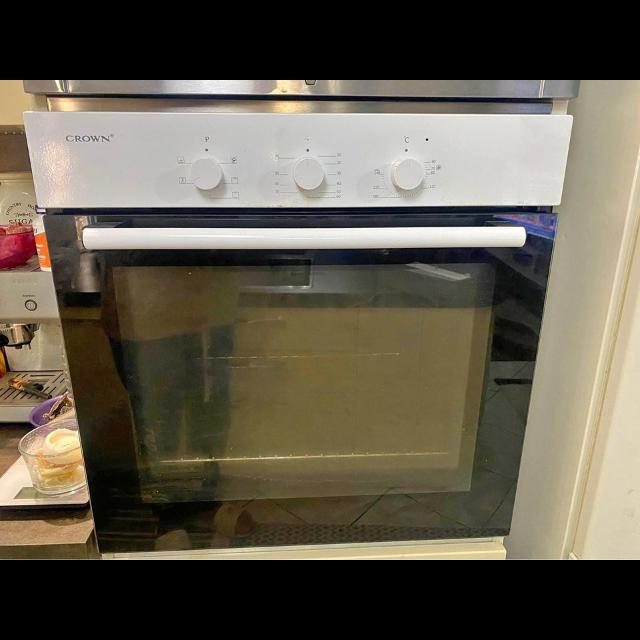Oven: (65, 88, 531, 556)
